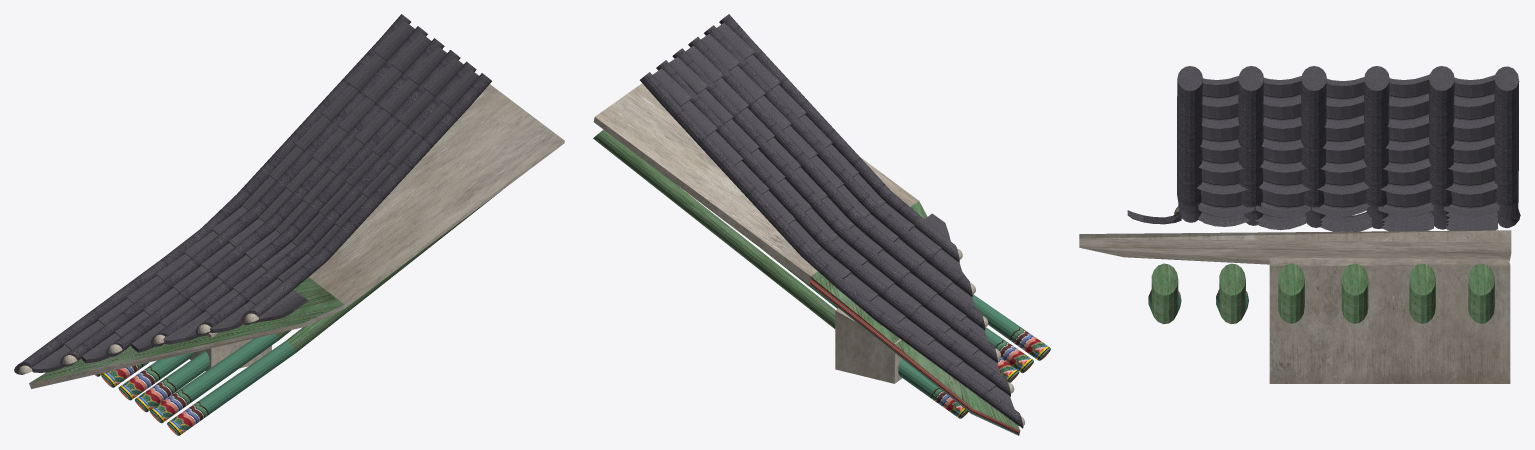
Rendered from SM_R_RoofCornerCut_3.fbx.
3 renders of one model, left to right at view 1: azimuth 30°, elevation 25°; view 2: azimuth 150°, elevation 25°; view 3: azimuth 270°, elevation 25°, orthographic. The views are drawn at different scales.
Visible parts, largest first — view 1: SM_R_RoofCornerCut_3; view 2: SM_R_RoofCornerCut_3; view 3: SM_R_RoofCornerCut_3.
Part boxes in pixels (x1,y1,x2,y2): SM_R_RoofCornerCut_3: (14, 14, 564, 435); SM_R_RoofCornerCut_3: (593, 14, 1050, 435); SM_R_RoofCornerCut_3: (1079, 66, 1520, 383).
Bounding box in the file's own units: 824 × 358 × 495.
4 materials, 4 textured.
